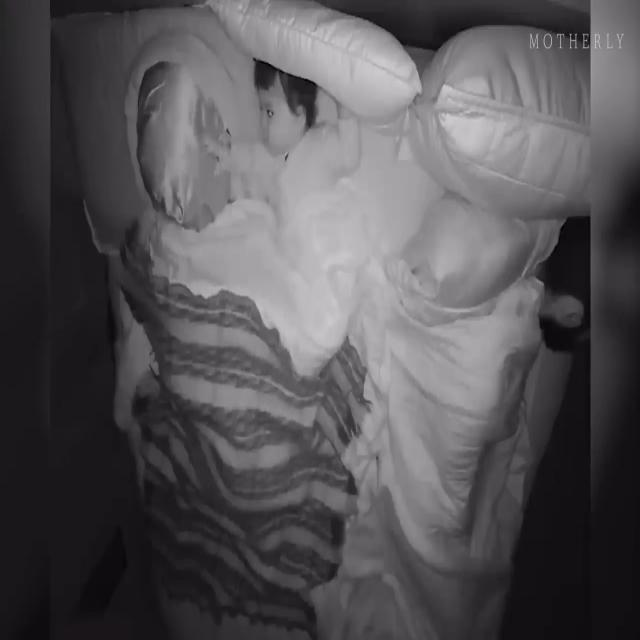baby: (205, 63, 361, 218)
